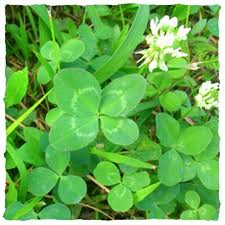4-clover: (49, 68, 143, 150)
